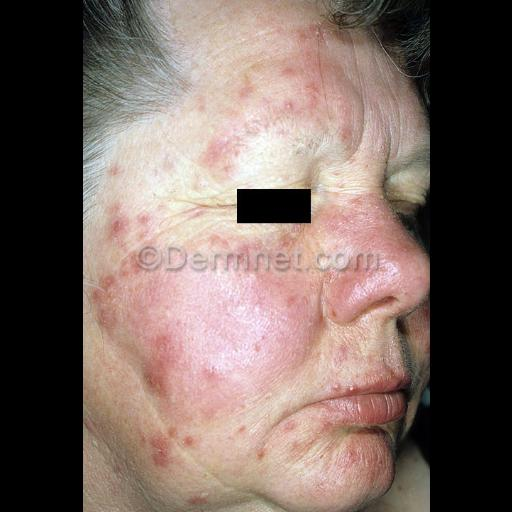Skin_Lesion: (102, 202, 150, 248), (205, 124, 241, 176), (90, 284, 118, 338), (202, 360, 234, 402), (149, 322, 185, 352), (151, 425, 169, 469), (324, 378, 362, 396), (338, 114, 354, 144)
